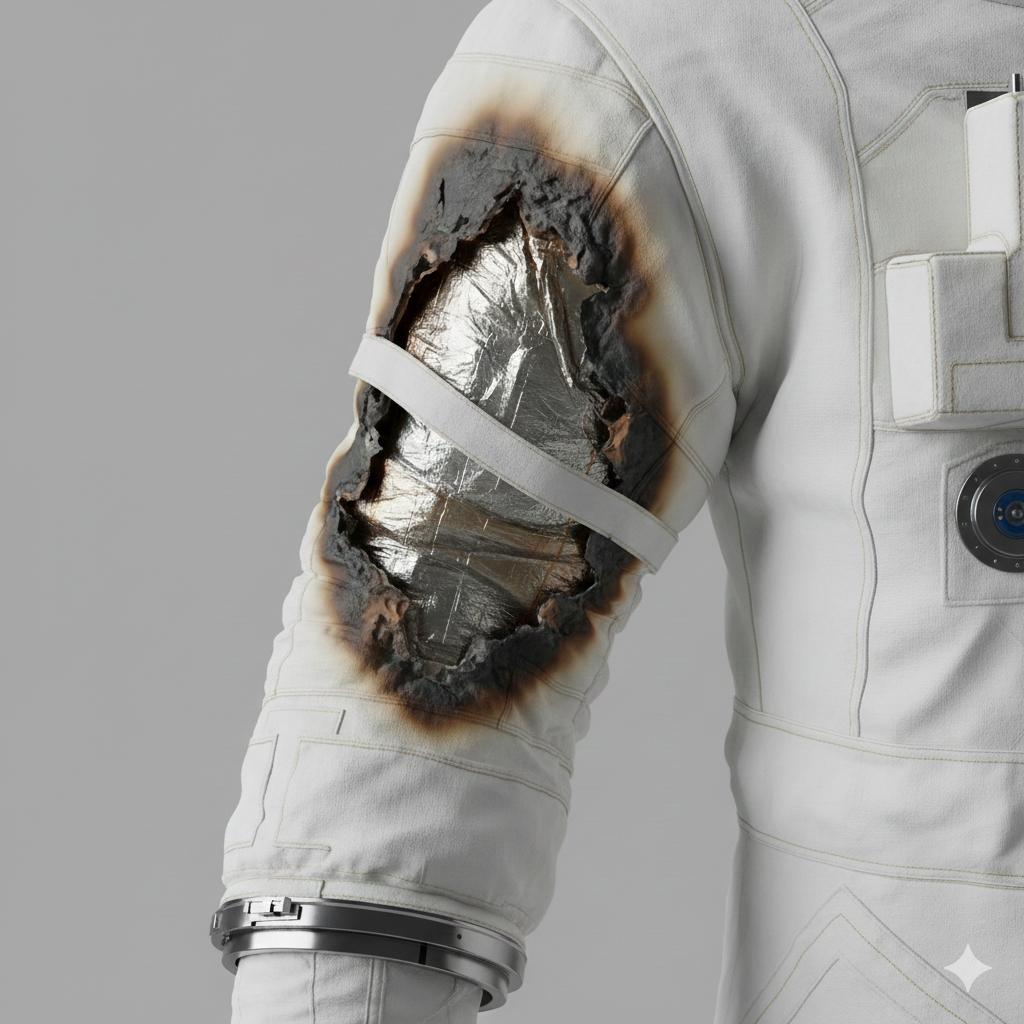burn: (342, 88, 634, 779)
